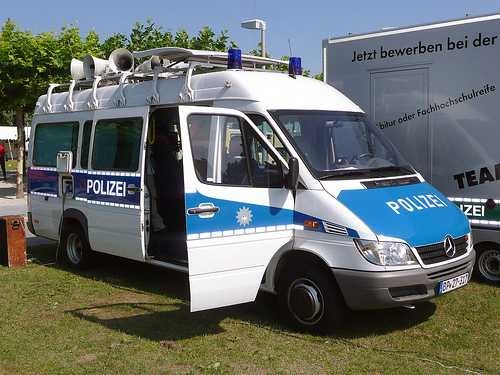Police Van: (32, 53, 493, 348)
